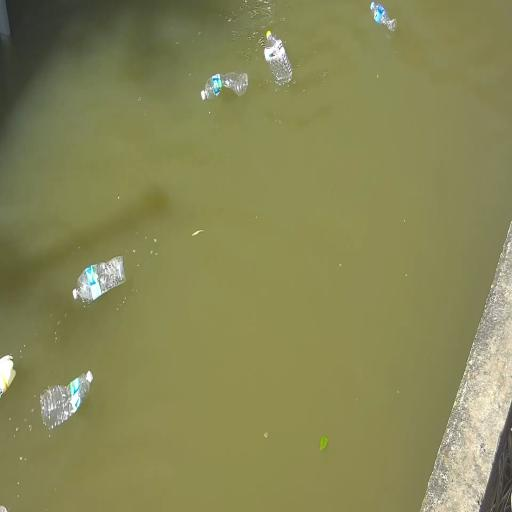plastic: (41, 372, 92, 428), (73, 256, 125, 301), (264, 31, 292, 84), (201, 73, 248, 100), (371, 2, 396, 31), (0, 356, 15, 397), (0, 506, 7, 511)
